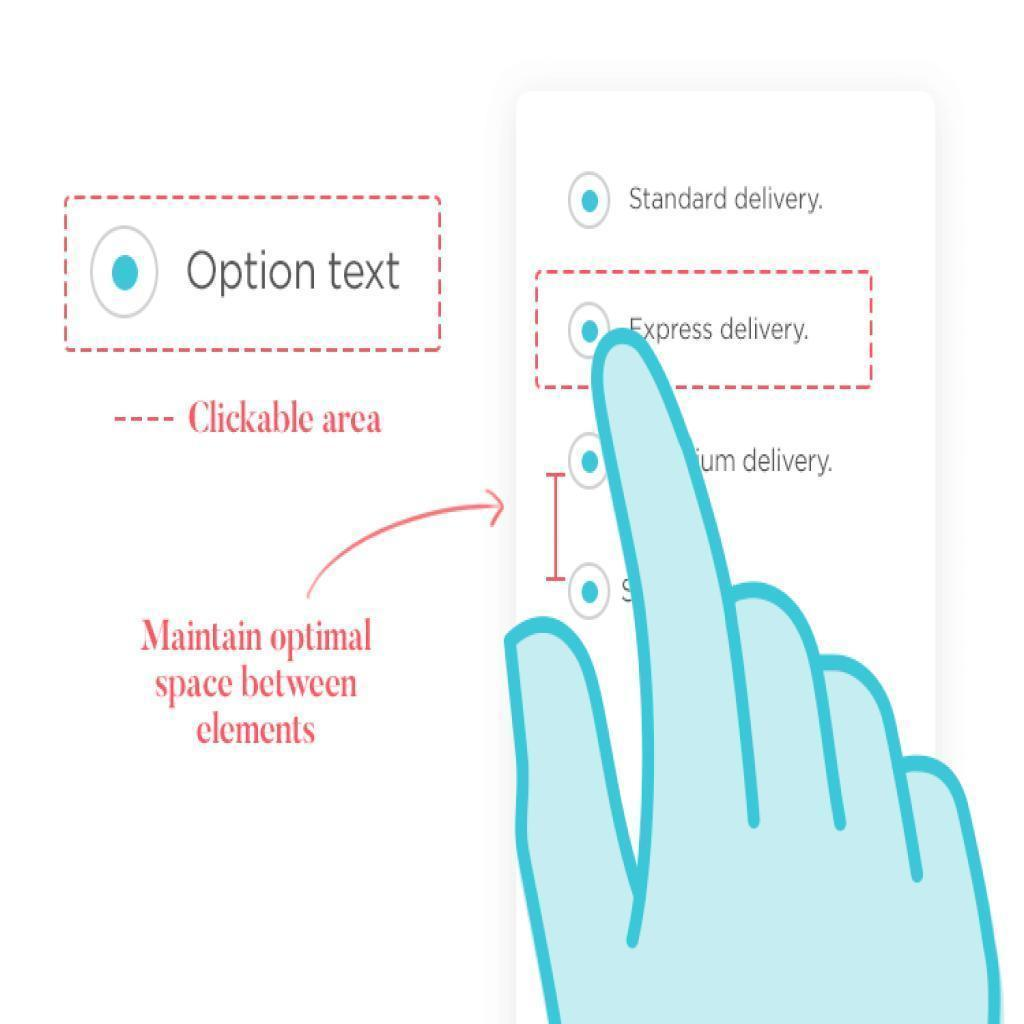radio: (86, 219, 165, 331), (563, 562, 614, 624), (566, 167, 612, 234)
